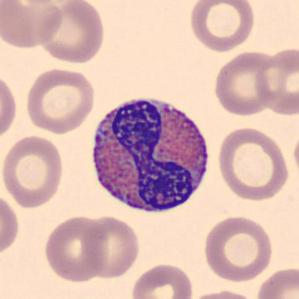Eosinophil: (84, 88, 216, 221)
RBC: (214, 124, 291, 203), (201, 214, 275, 284), (24, 66, 98, 135), (0, 132, 66, 209), (42, 214, 110, 284), (36, 0, 107, 65), (212, 48, 278, 117), (80, 213, 142, 281), (187, 0, 257, 54), (252, 45, 299, 118), (0, 0, 65, 50), (129, 261, 196, 299), (253, 264, 299, 299), (0, 191, 21, 258), (0, 71, 19, 143), (186, 288, 259, 299), (291, 125, 299, 184)
